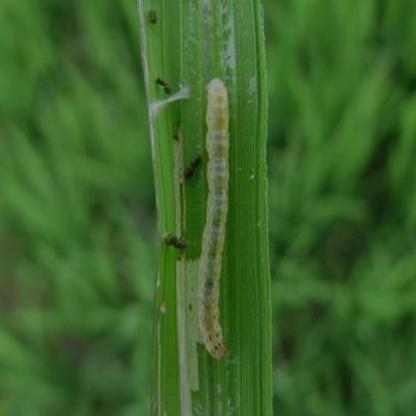leaf-folder: (171, 73, 251, 378)
